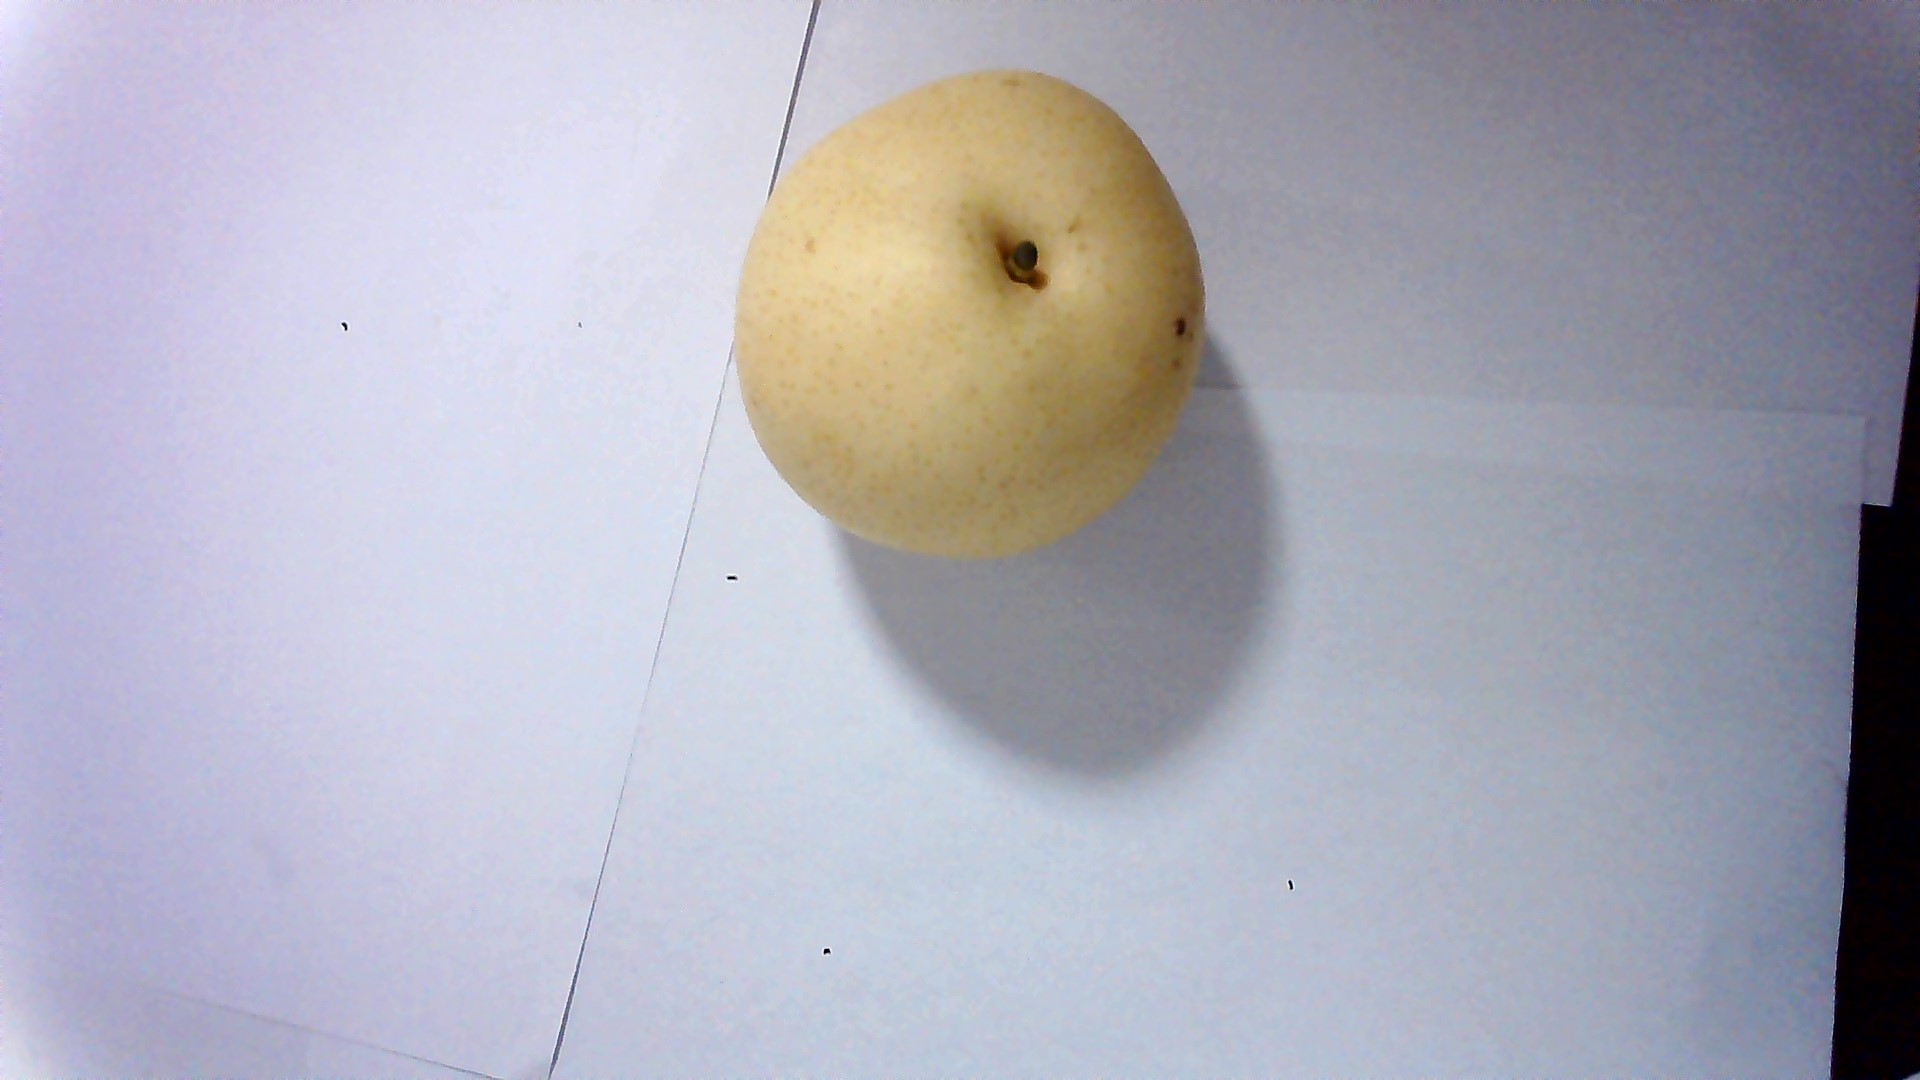pear: (720, 74, 1209, 531)
